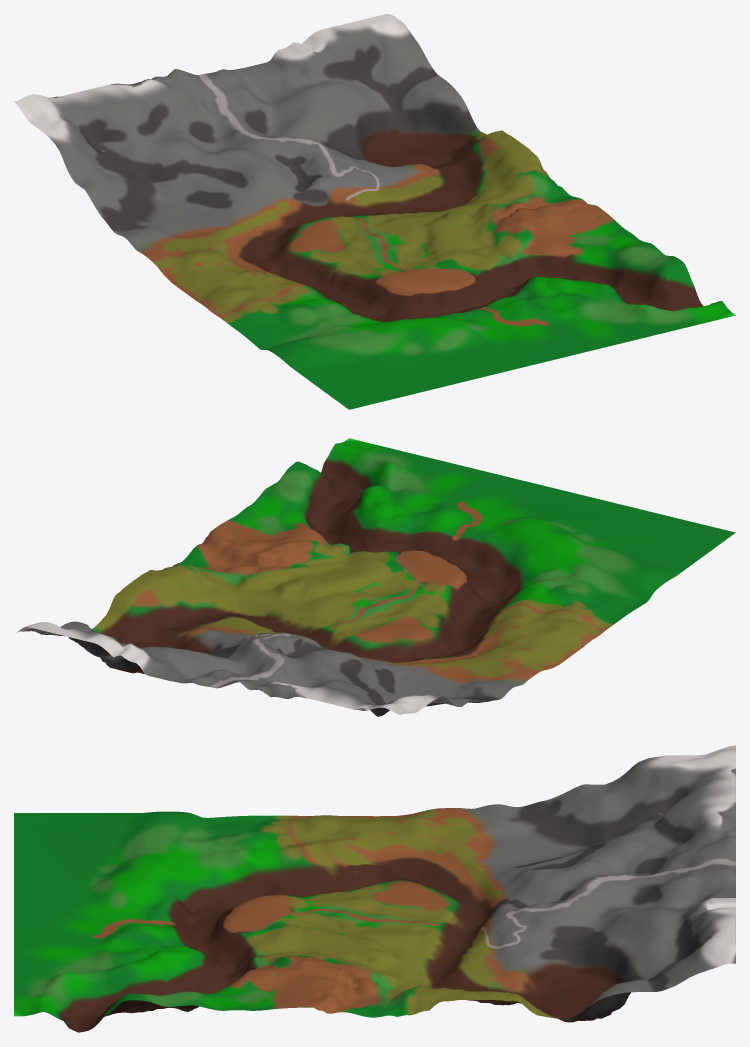
File: Terrain Models_Ground.fbx
3 renders of one model, top to bottom at view 1: azimuth 30°, elevation 25°; view 2: azimuth 150°, elevation 25°; view 3: azimuth 270°, elevation 25°, orthographic. The views are drawn at different scales.
Parts seen in each view (by area): view 1: Ground Terrain; view 2: Ground Terrain; view 3: Ground Terrain.
Boxes of the visible parts, left/top/right/bottom form: Ground Terrain: left=14, top=14, right=735, bottom=409; Ground Terrain: left=16, top=438, right=735, bottom=716; Ground Terrain: left=14, top=745, right=735, bottom=1032.
Bounding box in the file's own units: 89350 × 19709 × 134037.
Materials: 1 (1 with a texture image).
